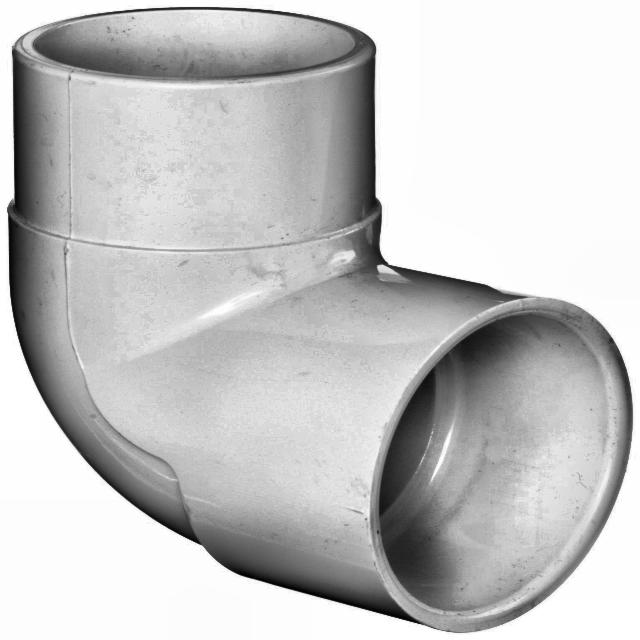ELBOW90: (8, 7, 633, 635)
